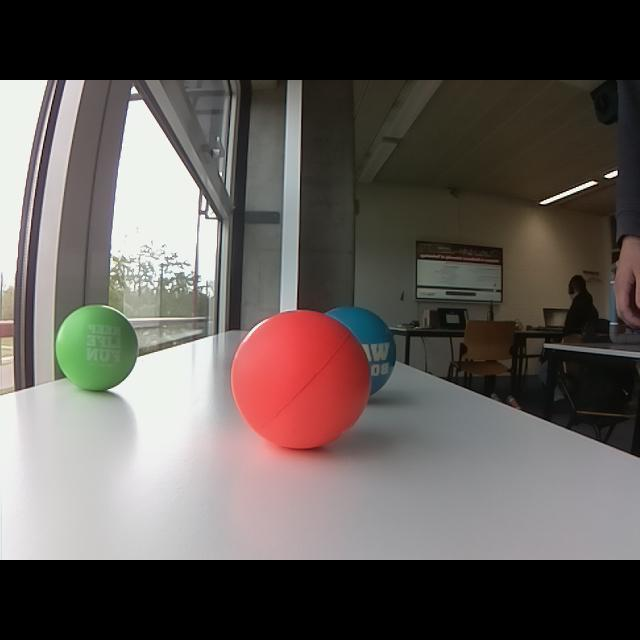ball: (230, 307, 373, 452)
